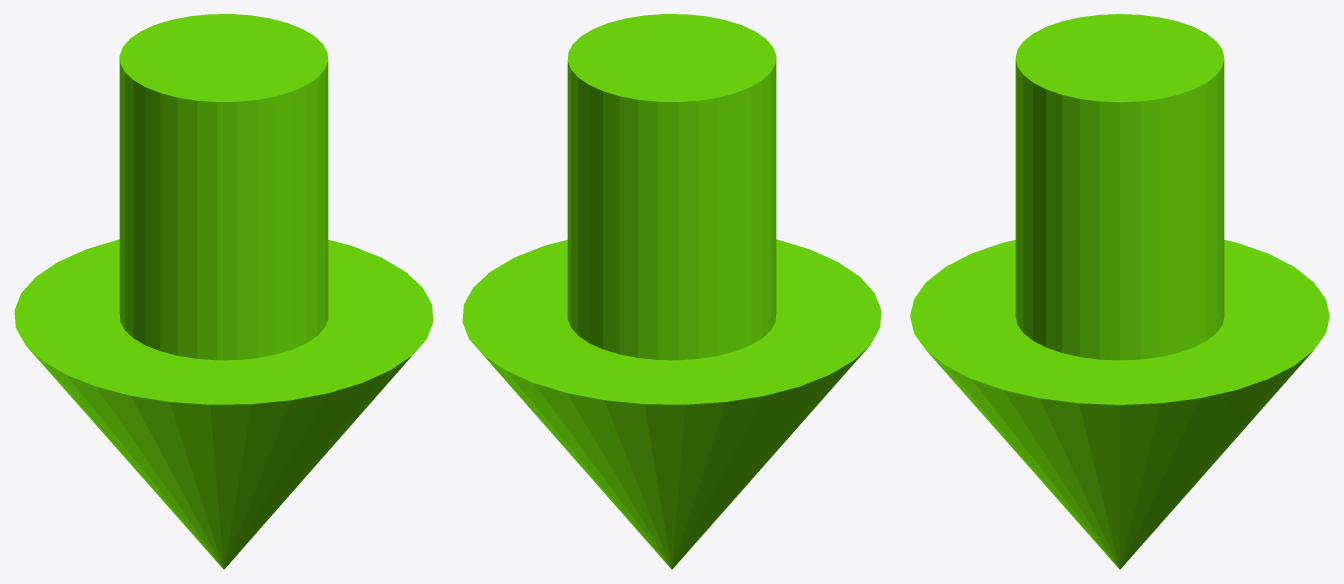
File: Arrow.fbx
3 renders of one model, left to right at view 1: azimuth 30°, elevation 25°; view 2: azimuth 150°, elevation 25°; view 3: azimuth 270°, elevation 25°, orthographic.
Visible parts, largest first — view 1: Cone; view 2: Cone; view 3: Cone.
Boxes of the visible parts, <box> form: Cone: <box>14,14,433,569</box>; Cone: <box>462,14,881,569</box>; Cone: <box>910,14,1329,569</box>.
Bounding box in the file's own units: 15 × 20.18 × 15.
